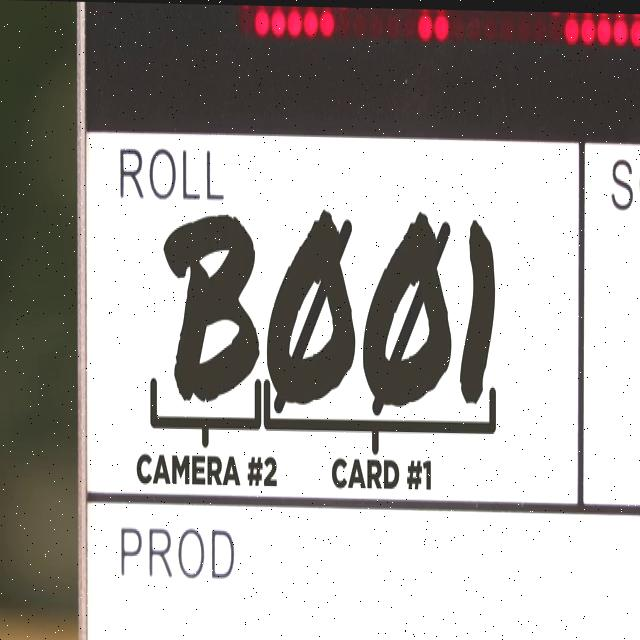Clapperboard: (74, 2, 640, 640)
